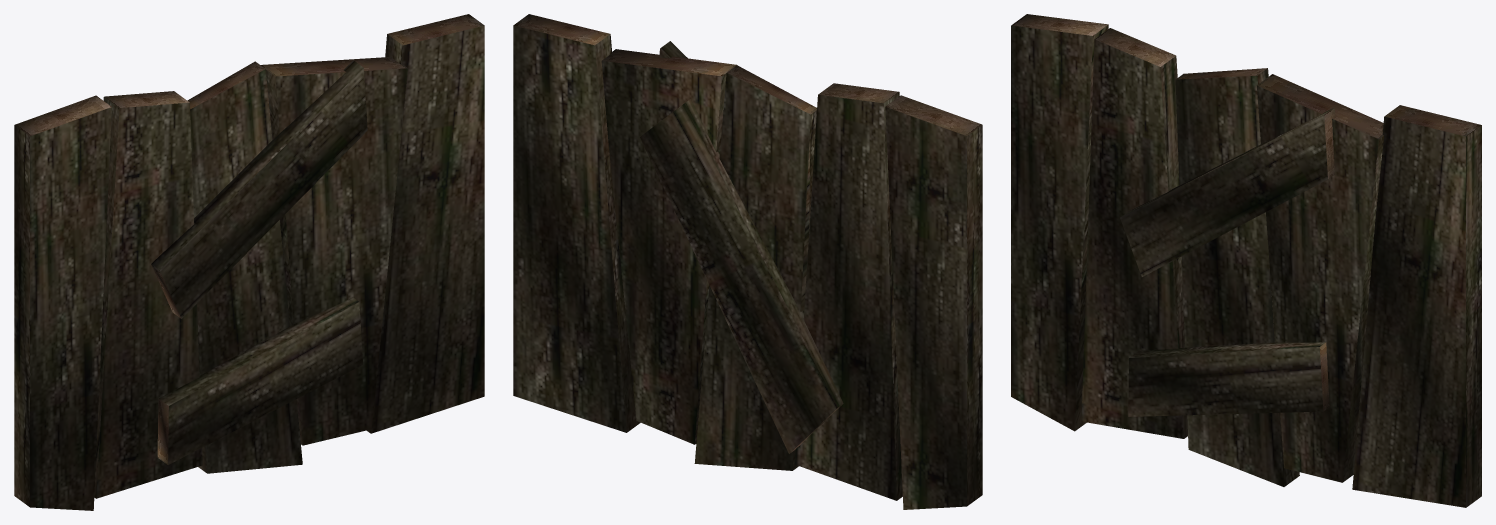
The model's file is EVT_NC_MAINGATE01.glb.
3 renders of one model, left to right at view 1: azimuth 30°, elevation 25°; view 2: azimuth 150°, elevation 25°; view 3: azimuth 330°, elevation 25°, orthographic.
Visible parts, largest first — view 1: Mesh; view 2: Mesh; view 3: Mesh.
Part boxes in pixels (bbox=[...]): Mesh: bbox=[14, 14, 484, 510]; Mesh: bbox=[513, 14, 982, 509]; Mesh: bbox=[1011, 14, 1481, 507].
Bounding box in the file's own units: 5 × 4.25 × 0.6.
3 materials, 3 textured.
